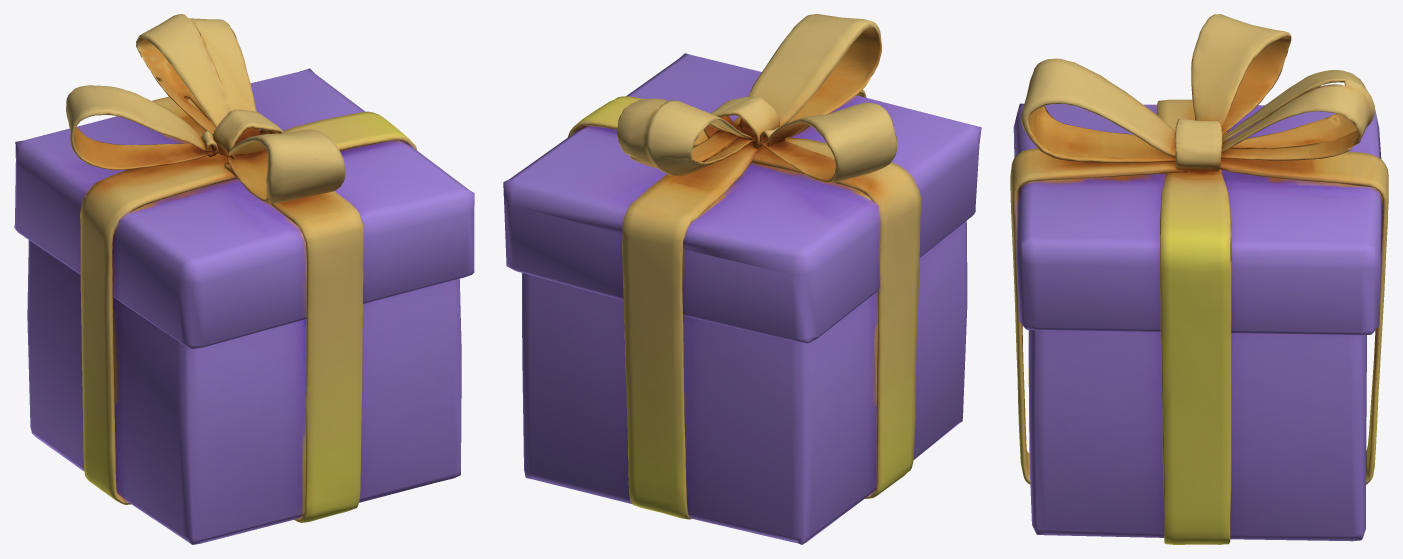
The model's file is r33-present.glb.
3 renders of one model, left to right at view 1: azimuth 30°, elevation 25°; view 2: azimuth 150°, elevation 25°; view 3: azimuth 270°, elevation 25°, orthographic. The views are drawn at different scales.
Visible parts, largest first — view 1: tripo_node_55f914f1-177f-4095-ad5e-84b26cf5538c; view 2: tripo_node_55f914f1-177f-4095-ad5e-84b26cf5538c; view 3: tripo_node_55f914f1-177f-4095-ad5e-84b26cf5538c.
Boxes of the visible parts, x1,y1,x2,y2 form: tripo_node_55f914f1-177f-4095-ad5e-84b26cf5538c: (14, 14, 474, 544); tripo_node_55f914f1-177f-4095-ad5e-84b26cf5538c: (503, 14, 981, 544); tripo_node_55f914f1-177f-4095-ad5e-84b26cf5538c: (1010, 14, 1388, 544).
Size of the model in its own units: 0.8535 by 0.998 by 0.8496.
Materials: 1 (1 with a texture image).
